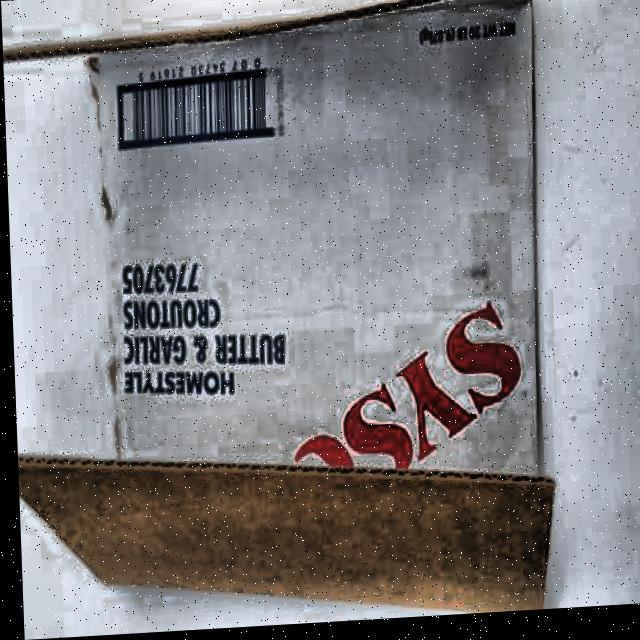cardboard: (0, 0, 585, 638)
